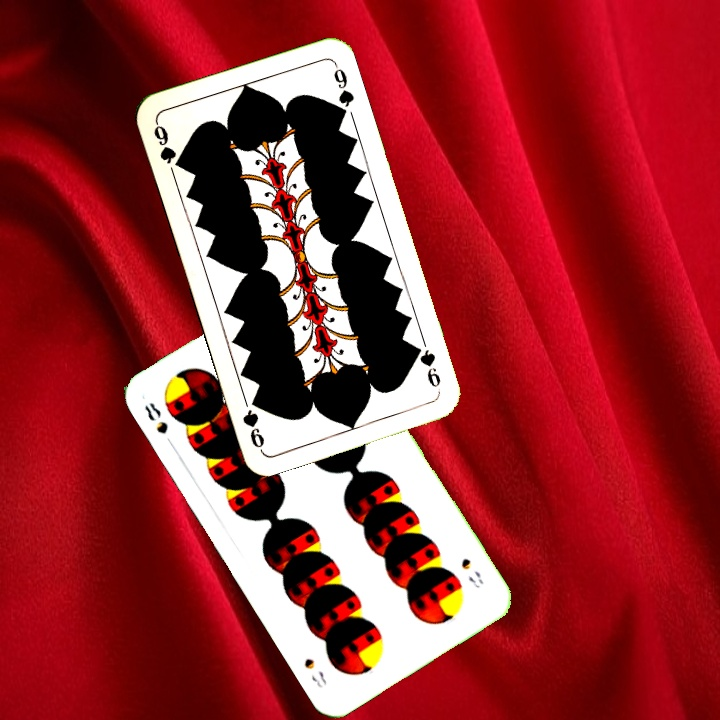G9: (149, 118, 186, 172), (410, 341, 444, 395)
S8: (140, 398, 171, 437), (457, 553, 487, 591)
